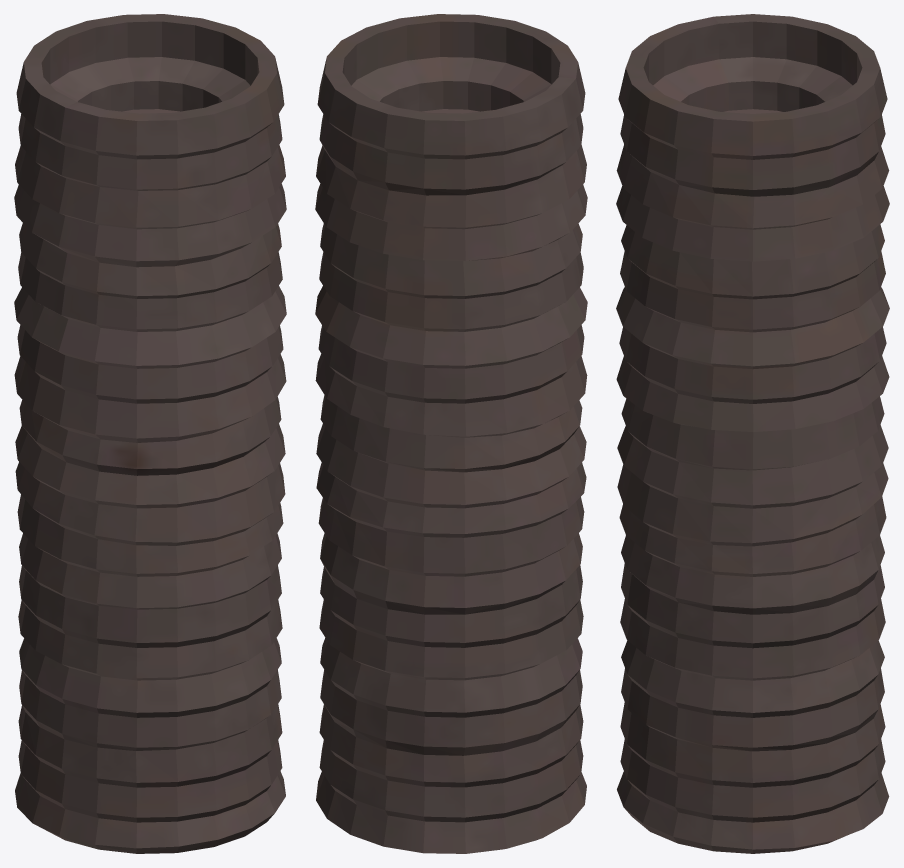
Rendered from PipeEnd.fbx.
3 views of the same model, side by side, from view 1: azimuth 30°, elevation 25°; view 2: azimuth 150°, elevation 25°; view 3: azimuth 270°, elevation 25° (orthographic).
Visible parts, largest first — view 1: SM_ENV_STRUCT_ScrapYard_Pipe_B_End.mo; view 2: SM_ENV_STRUCT_ScrapYard_Pipe_B_End.mo; view 3: SM_ENV_STRUCT_ScrapYard_Pipe_B_End.mo.
Part boxes in pixels (box(x1,y1,x2,y2)): SM_ENV_STRUCT_ScrapYard_Pipe_B_End.mo: box(14, 14, 286, 853); SM_ENV_STRUCT_ScrapYard_Pipe_B_End.mo: box(315, 14, 587, 853); SM_ENV_STRUCT_ScrapYard_Pipe_B_End.mo: box(616, 14, 889, 853).
Bounding box in the file's own units: 169 × 500 × 169.
3 materials, 3 textured.
